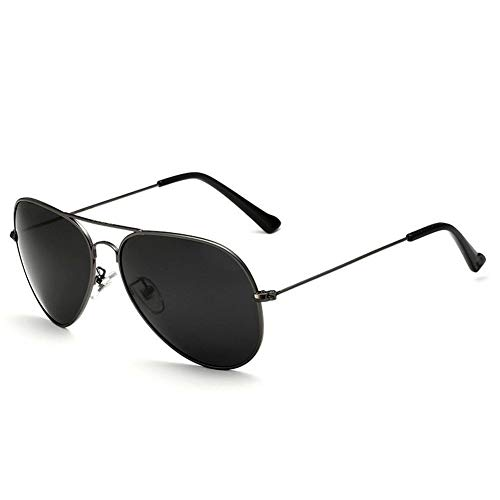sunglasses: (7, 190, 467, 369)
